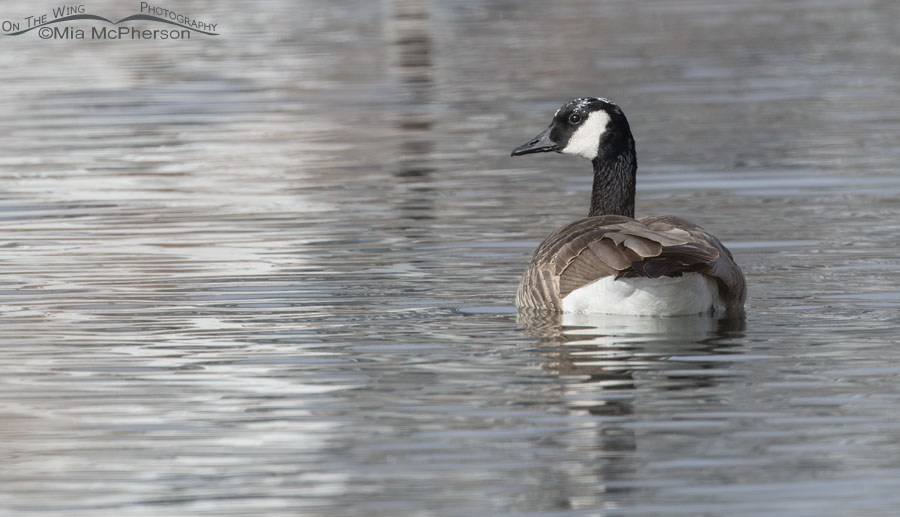goose: (505, 91, 753, 335)
